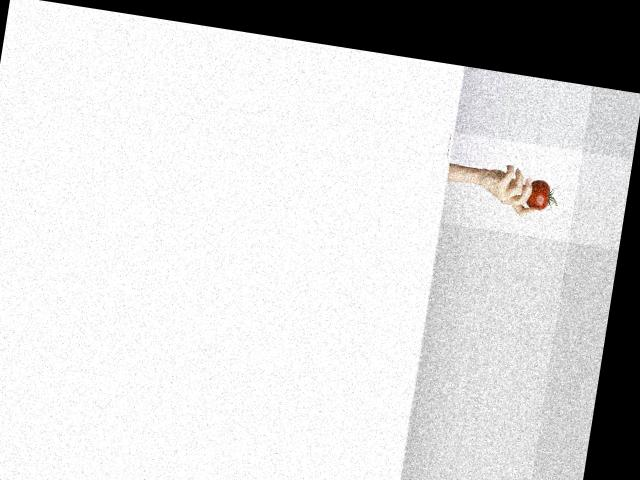tomato: (526, 178, 560, 211)
